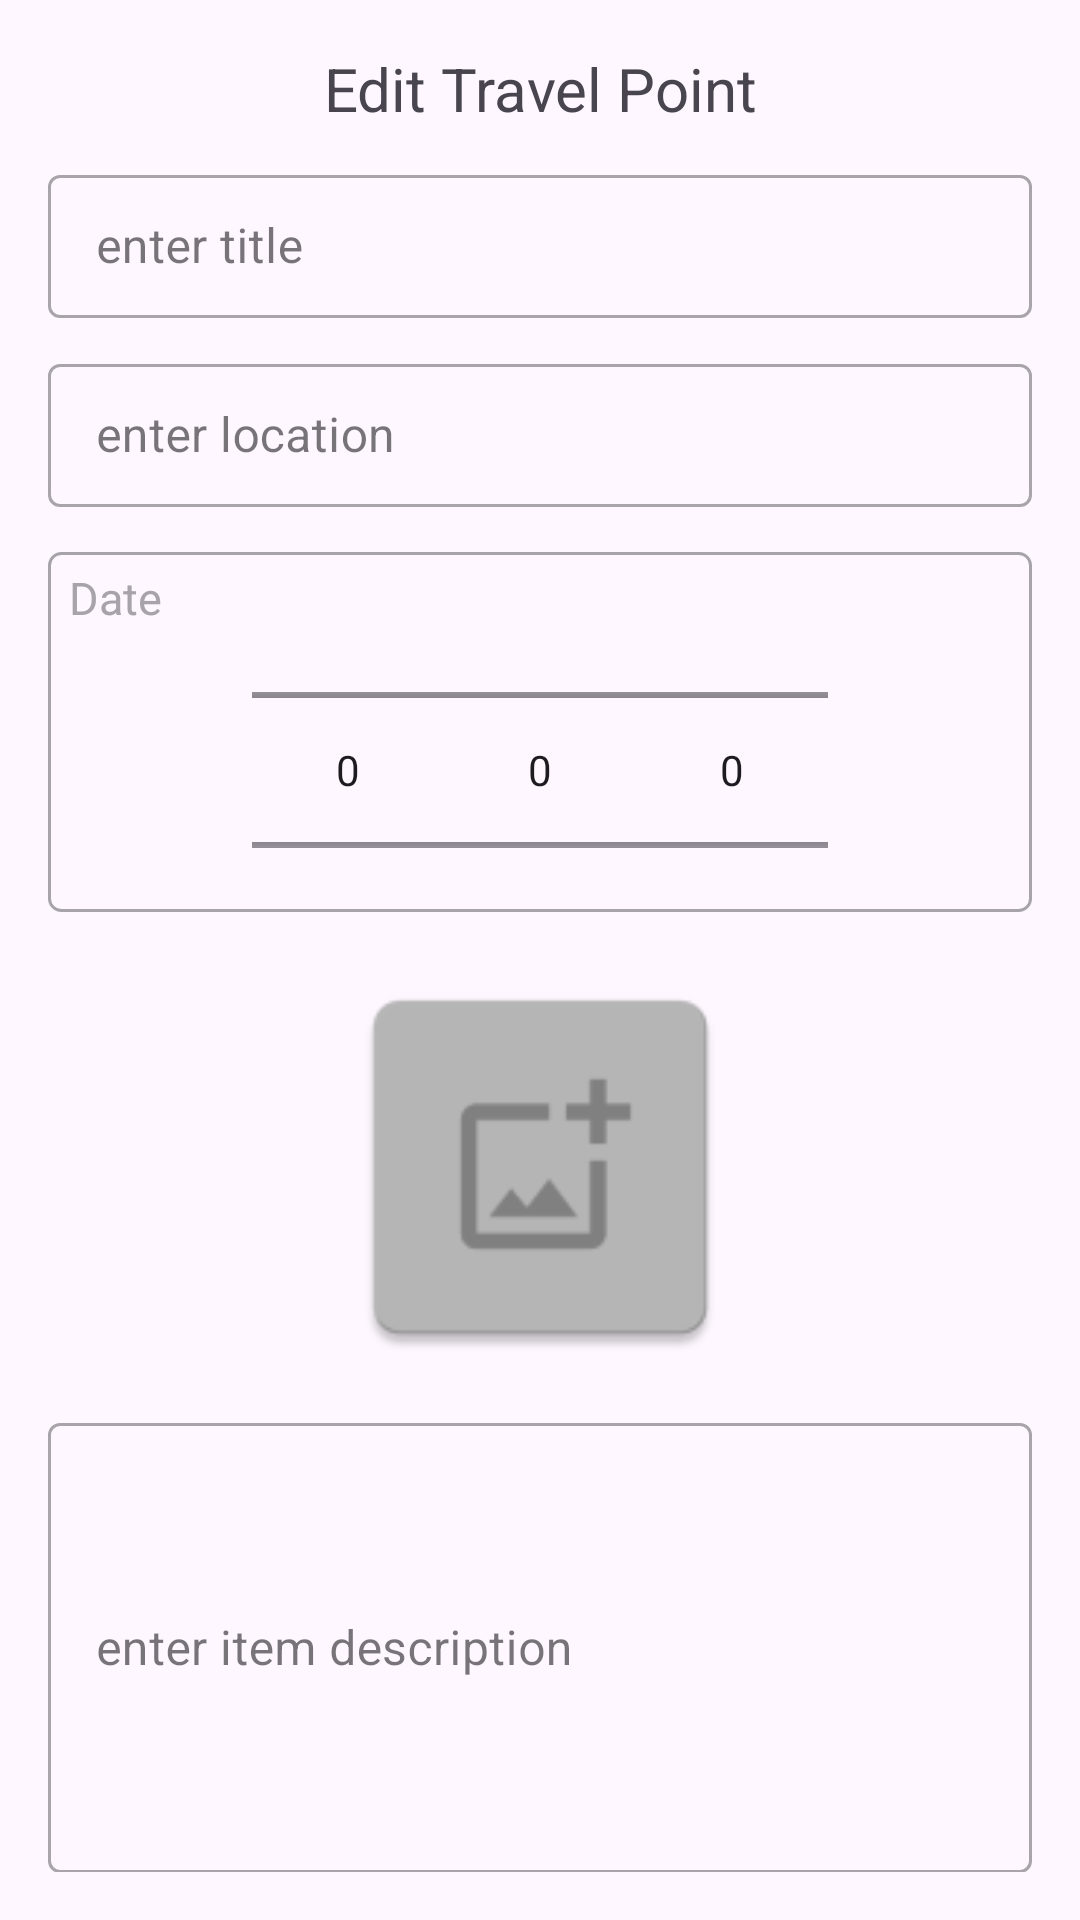

Point at icon controls on the screen. Image size 1080px×1920px, points as (x,y).
photo: (540,1172)
